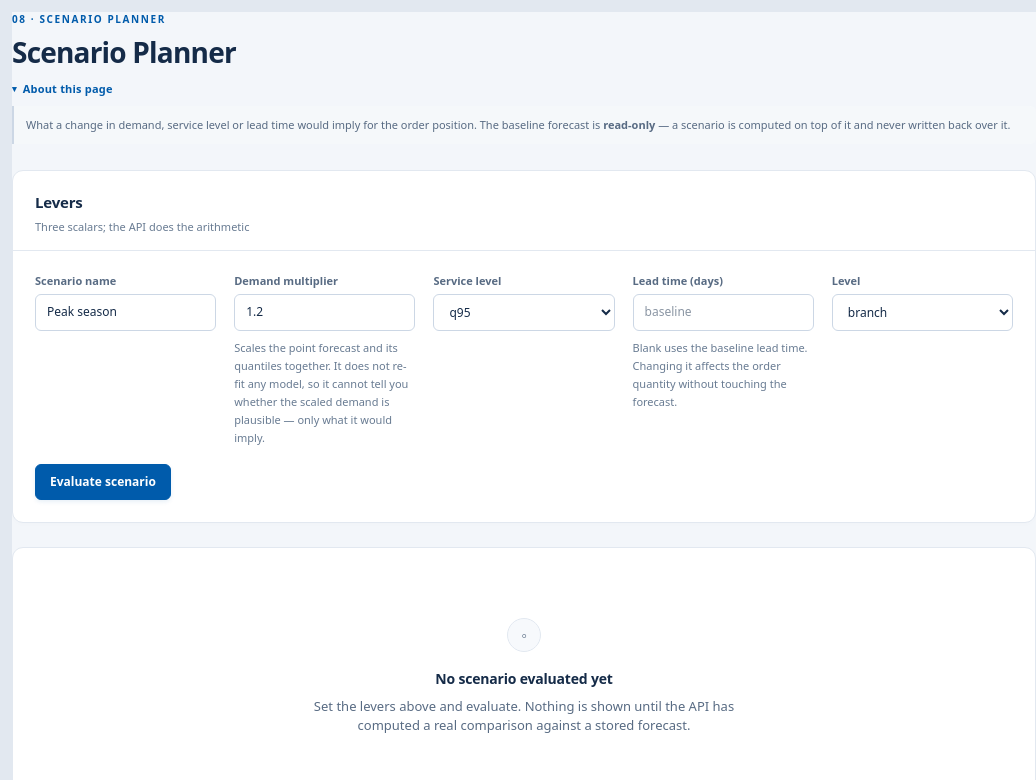
it: ScenarioPlannerPage › shows the demand and order deltas separately
The width and height of the screenshot is (1036, 780).
Click the button "Evaluate scenario".
click(103, 482)  # box left=35, top=464, right=171, bottom=500
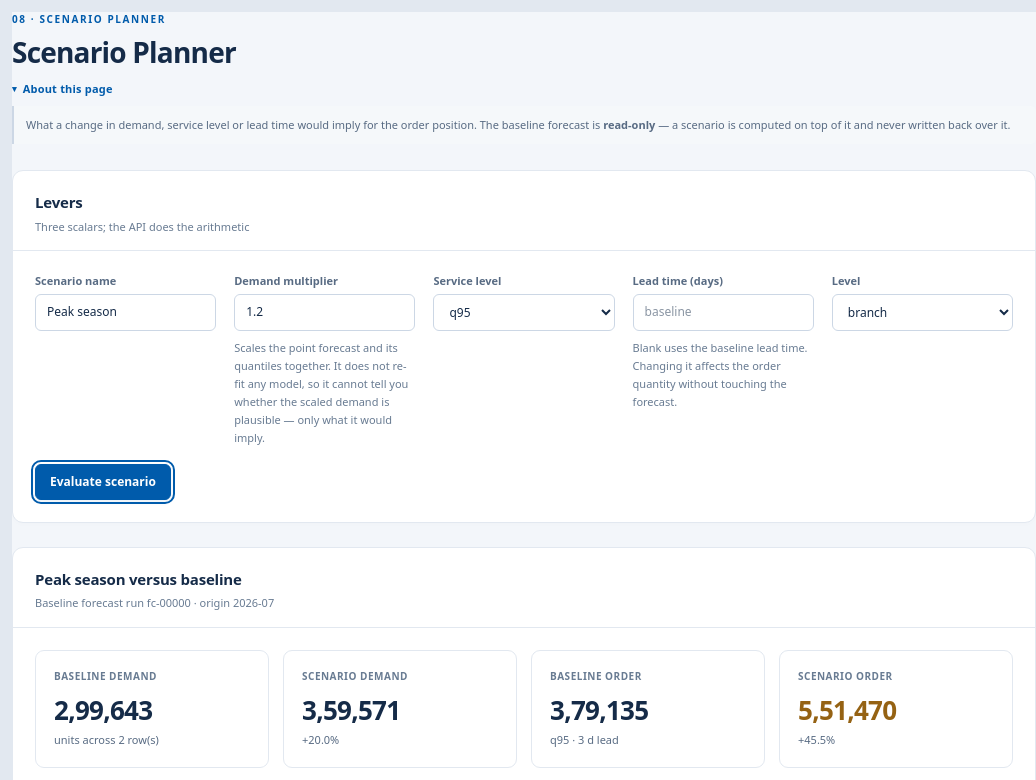
Expected: the text "+20.0%" is shown, left=302, top=732, right=339, bottom=747
Expected: the text "+45.5%" is shown, left=798, top=732, right=835, bottom=747
